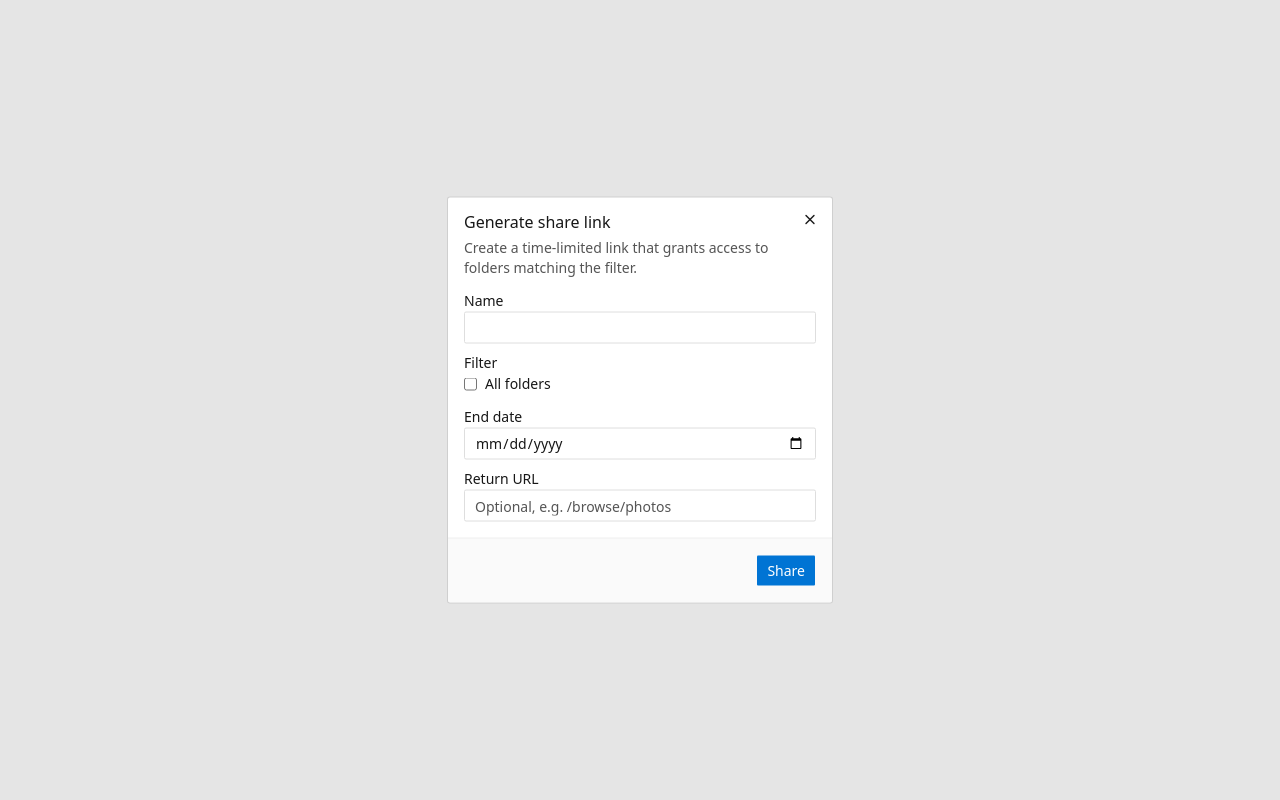
Test case: shareLinkDialog validation › shows errors for all empty required fields on submit
Click the button "Share" at x=786, y=570, box [756, 554, 816, 586]
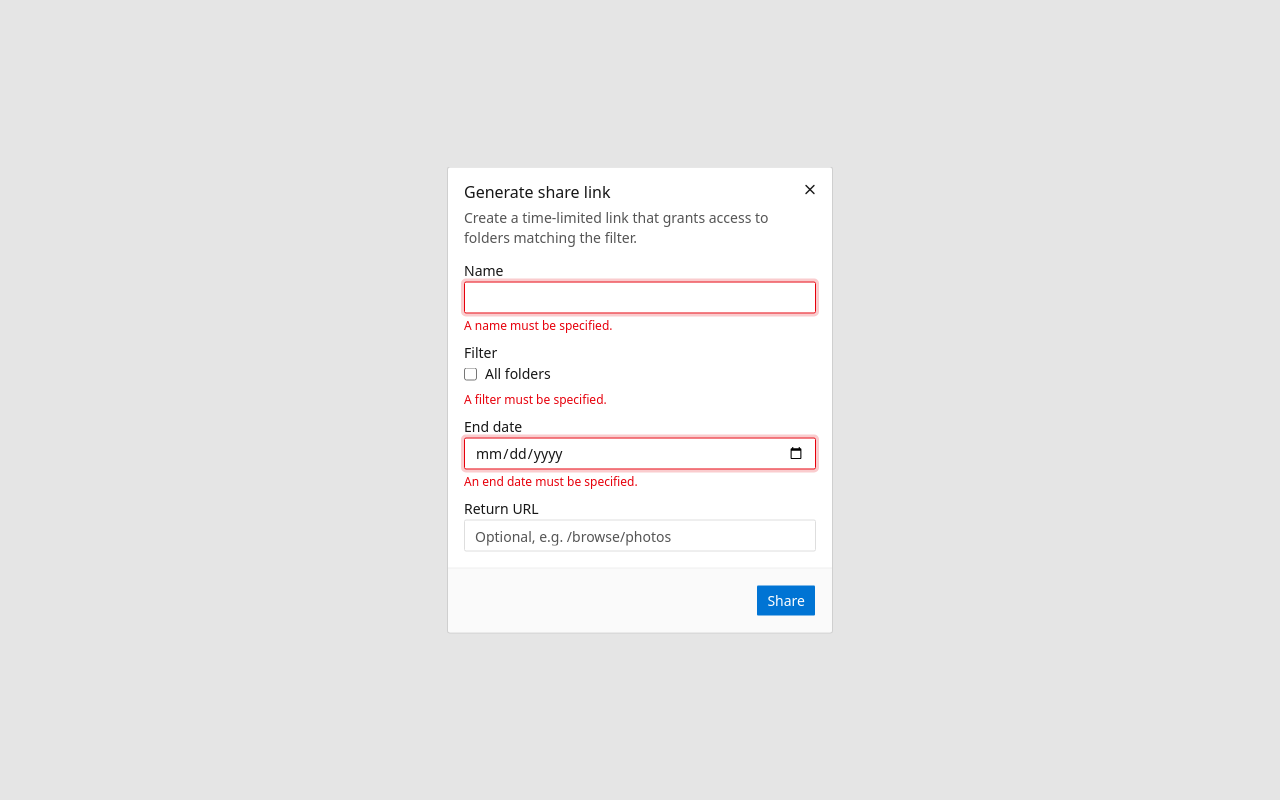
Now the text "A filter must be specified." is shown, box [464, 390, 607, 408]
Now the text "An end date must be specified." is shown, box [464, 472, 638, 490]
